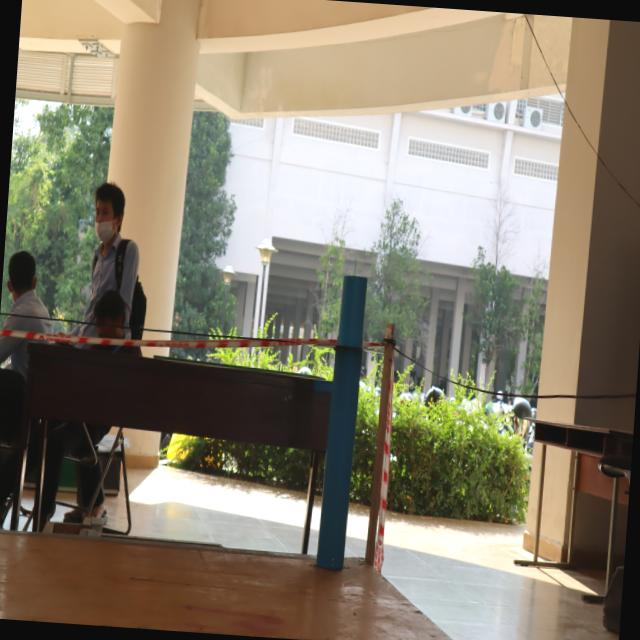pole: (310, 268, 390, 420)
